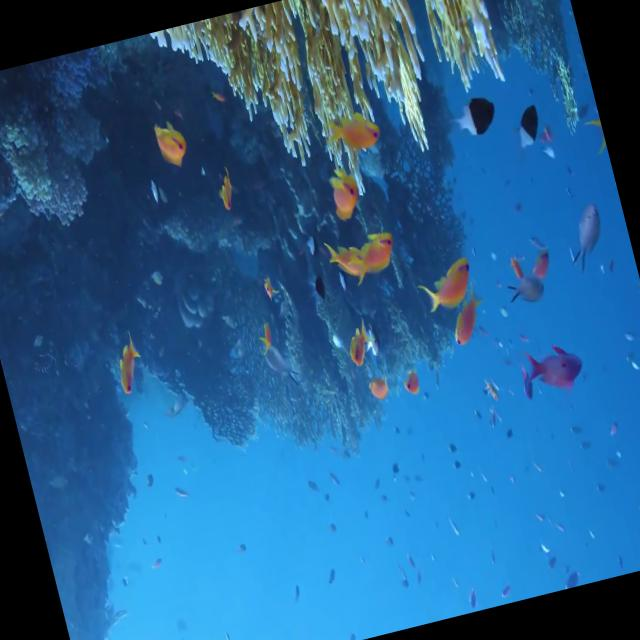fish: (560, 195, 614, 275), (412, 252, 477, 312), (524, 338, 590, 397), (344, 226, 402, 286), (442, 284, 492, 349), (108, 328, 152, 398), (447, 91, 501, 140), (506, 104, 548, 162), (332, 112, 383, 154), (327, 234, 369, 284), (502, 272, 546, 306)
